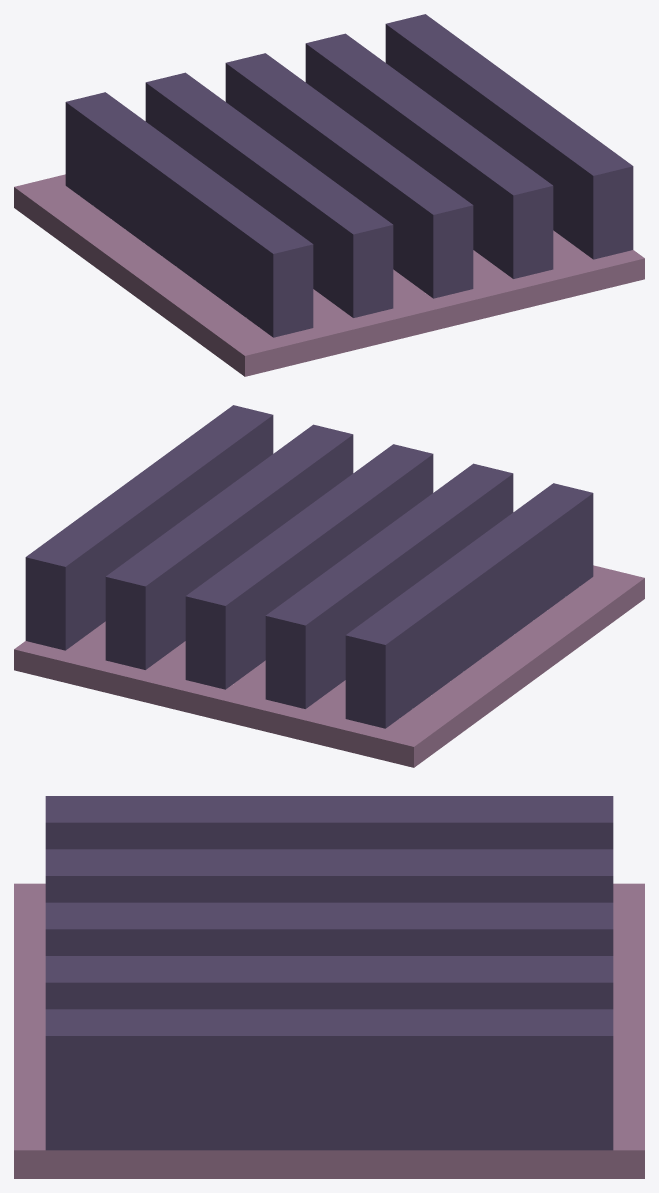
File: alien-biosphere-ribbed-bedrock-e35f53e4__22768.glb
3 views of the same model, one above another, from view 1: azimuth 30°, elevation 25°; view 2: azimuth 150°, elevation 25°; view 3: azimuth 270°, elevation 25° (orthographic). The views are drawn at different scales.
Parts seen in each view (by area): view 1: ribbed-bedrock; view 2: ribbed-bedrock; view 3: ribbed-bedrock.
Boxes of the visible parts, <box> form: ribbed-bedrock: <box>14,14,644,376</box>; ribbed-bedrock: <box>14,405,644,767</box>; ribbed-bedrock: <box>14,796,644,1178</box>.
Bounding box in the file's own units: 4 × 1 × 4.
